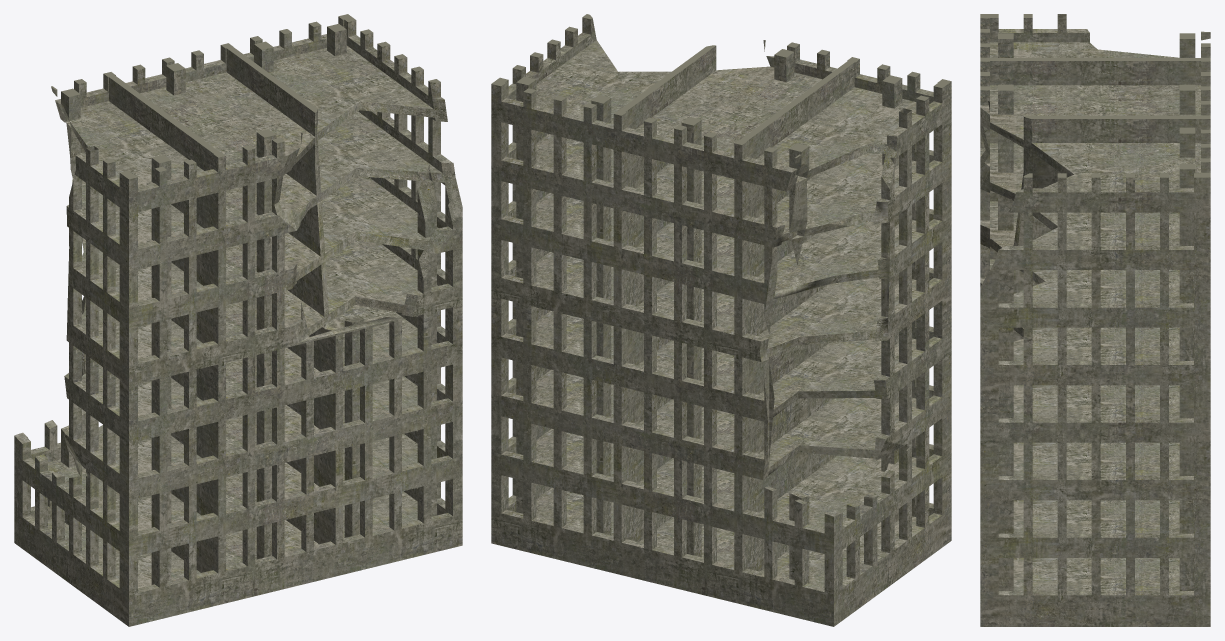
3 views of the same model, side by side, from view 1: azimuth 30°, elevation 25°; view 2: azimuth 150°, elevation 25°; view 3: azimuth 270°, elevation 25° (orthographic). The views are drawn at different scales.
Visible parts, largest first — view 1: Cube.003_1; view 2: Cube.003_1; view 3: Cube.003_1.
Part boxes in pixels (bbox=[...]): Cube.003_1: bbox=[14, 14, 462, 626]; Cube.003_1: bbox=[491, 14, 951, 626]; Cube.003_1: bbox=[980, 14, 1210, 626].
Size of the model in its own units: 3.14 by 4.02 by 1.87.
Materials: 1 (1 with a texture image).
